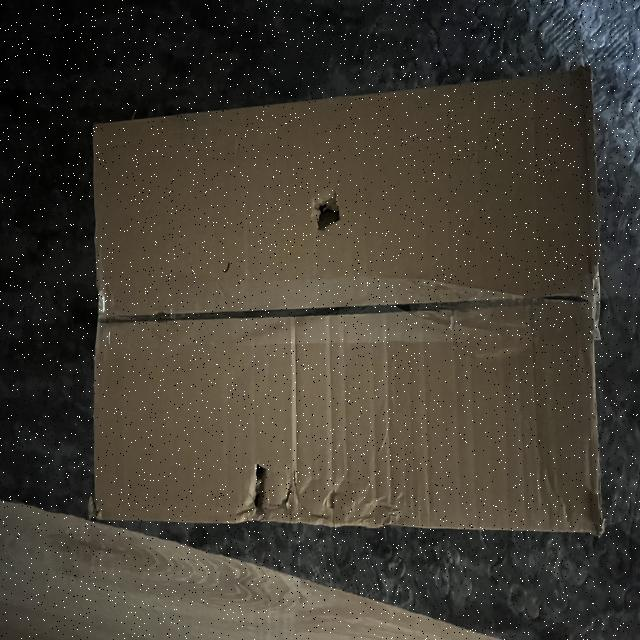damaged: (83, 70, 613, 563), (298, 182, 352, 244), (242, 452, 274, 534), (354, 489, 410, 531), (581, 471, 611, 549), (318, 480, 342, 528), (282, 469, 302, 526)
